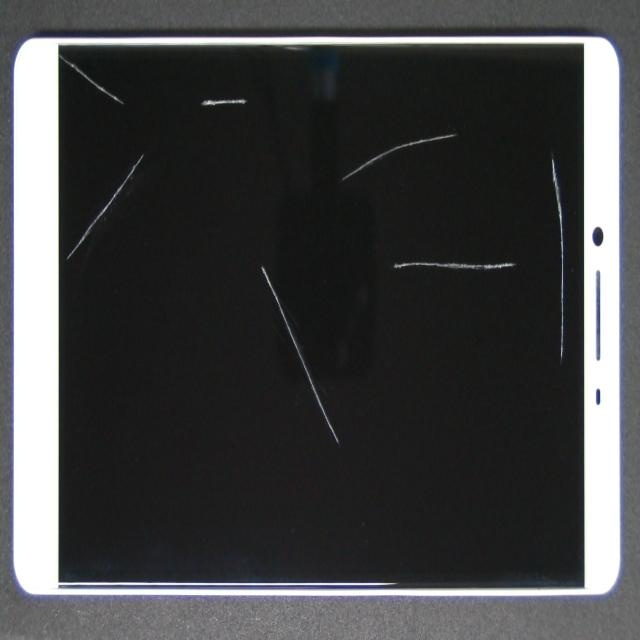scratch: (331, 123, 640, 370), (225, 356, 486, 585), (297, 33, 638, 193), (296, 274, 640, 414), (159, 40, 354, 134), (112, 12, 168, 265), (9, 12, 111, 138)
